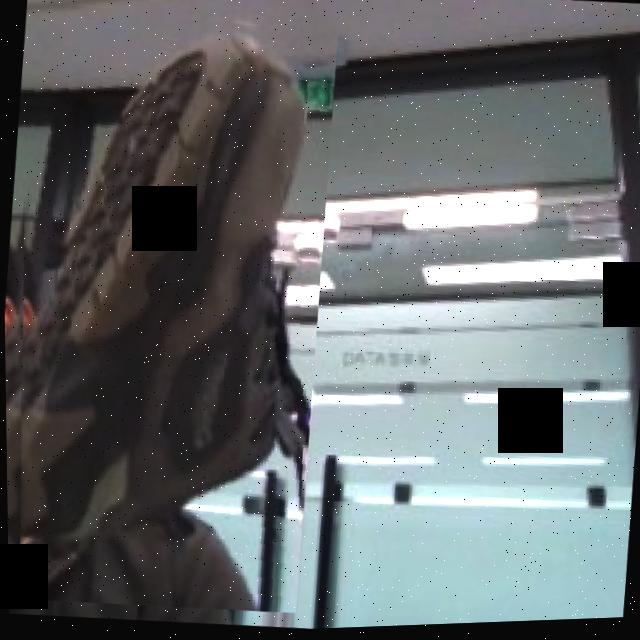shoe: (0, 0, 345, 623)
